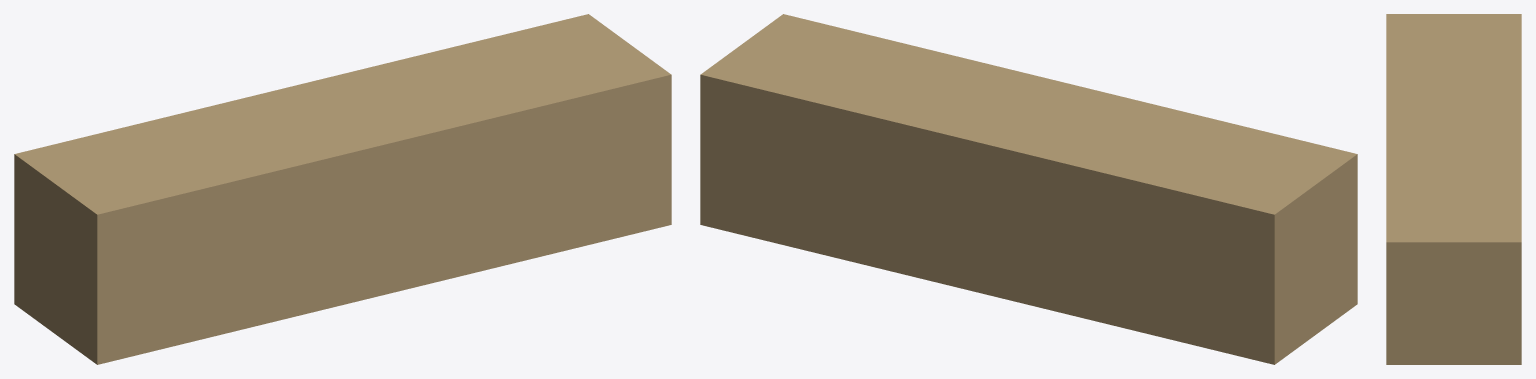
Rendered from env-ww-trough.glb.
3 views of the same model, side by side, from view 1: azimuth 30°, elevation 25°; view 2: azimuth 150°, elevation 25°; view 3: azimuth 270°, elevation 25° (orthographic). The views are drawn at different scales.
Bounding box in the file's own units: 2 × 0.5 × 0.5.
